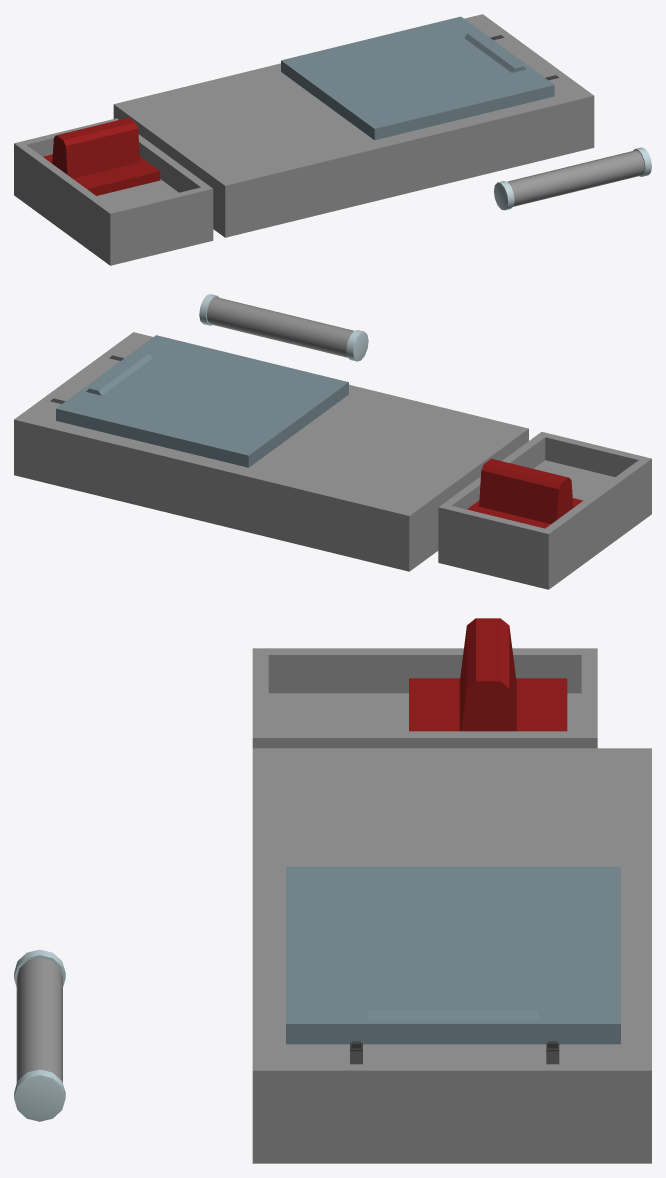
File: crok.FBX
The picture shows the model from 3 angles, top to bottom: view 1: azimuth 30°, elevation 25°; view 2: azimuth 150°, elevation 25°; view 3: azimuth 270°, elevation 25°; orthographic projection. The views are drawn at different scales.
Parts seen in each view (by area): view 1: Box002, cover002, Box001, Object001, fuse001; view 2: Box002, cover002, Box001, Object001, fuse001; view 3: Box002, cover002, Box001, Object001, fuse001.
Boxes of the visible parts, bbox=[...] form: Box002: bbox=[113, 14, 594, 237]; cover002: bbox=[281, 16, 554, 140]; Box001: bbox=[14, 118, 213, 265]; Object001: bbox=[43, 117, 160, 195]; fuse001: bbox=[494, 147, 651, 210]; Box002: bbox=[14, 332, 528, 571]; cover002: bbox=[56, 335, 348, 467]; Box001: bbox=[438, 432, 651, 589]; Object001: bbox=[467, 458, 582, 528]; fuse001: bbox=[199, 294, 368, 361]; Box002: bbox=[252, 748, 651, 1163]; cover002: bbox=[286, 866, 620, 1044]; Box001: bbox=[252, 648, 597, 748]; Object001: bbox=[409, 618, 567, 731]; fuse001: bbox=[14, 949, 65, 1121].
Size of the model in its own units: 6.24 by 0.9379 by 3.98.
